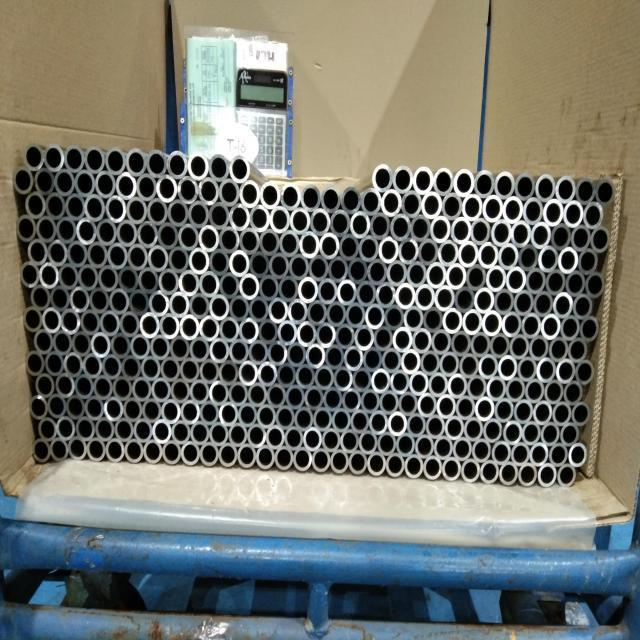pipe: (470, 217, 493, 247), (166, 150, 188, 181), (24, 190, 46, 220), (167, 198, 189, 228), (116, 218, 138, 248), (12, 166, 34, 196), (433, 167, 455, 197), (494, 171, 516, 201), (177, 175, 199, 205), (360, 187, 382, 217), (410, 214, 432, 243), (125, 148, 147, 177), (442, 191, 463, 221), (45, 191, 66, 221), (462, 192, 483, 222), (85, 193, 106, 223), (106, 194, 127, 224), (502, 195, 523, 225), (523, 196, 544, 226), (147, 197, 168, 227), (543, 198, 564, 228), (563, 199, 584, 229), (209, 201, 230, 231), (229, 202, 250, 232), (249, 203, 270, 233), (270, 205, 291, 235), (290, 206, 311, 236), (330, 208, 351, 238), (350, 210, 371, 240), (390, 212, 411, 242), (430, 214, 451, 244), (137, 219, 158, 249), (531, 220, 552, 250), (127, 242, 148, 272), (105, 146, 126, 176), (146, 149, 167, 179), (188, 151, 209, 181), (209, 152, 230, 182), (372, 163, 393, 193), (34, 167, 55, 197), (54, 167, 75, 197), (74, 168, 95, 198), (474, 169, 495, 199), (95, 169, 116, 199), (116, 171, 137, 201), (514, 172, 535, 202), (136, 172, 157, 202), (157, 173, 178, 203), (535, 173, 556, 203), (198, 176, 219, 206), (219, 178, 240, 208), (596, 178, 617, 208), (240, 179, 261, 209), (340, 185, 361, 215), (381, 188, 402, 218), (401, 189, 422, 219), (583, 200, 603, 231), (230, 153, 250, 184), (126, 196, 147, 225), (188, 200, 209, 229), (310, 207, 331, 236), (369, 211, 390, 240), (36, 215, 57, 244), (56, 216, 77, 245), (96, 218, 117, 247), (491, 218, 512, 247), (158, 221, 179, 250), (551, 222, 572, 251), (178, 223, 199, 252), (570, 224, 591, 253), (198, 224, 219, 253), (219, 225, 240, 254), (239, 227, 260, 256), (259, 228, 280, 257), (279, 229, 300, 258), (358, 234, 379, 263), (378, 235, 399, 264), (398, 237, 419, 266), (27, 238, 48, 267), (438, 239, 459, 268), (67, 239, 88, 268), (87, 240, 108, 269), (107, 242, 128, 271), (498, 242, 519, 271), (518, 243, 539, 272), (148, 244, 169, 273), (538, 245, 559, 274), (168, 245, 189, 274), (558, 246, 579, 275), (189, 246, 210, 275), (209, 248, 230, 277), (229, 249, 250, 278), (288, 253, 309, 282), (347, 257, 368, 286), (386, 259, 407, 288), (446, 262, 467, 291), (78, 263, 99, 292), (98, 264, 119, 293), (118, 265, 139, 294), (454, 285, 475, 314), (494, 287, 515, 316), (84, 146, 105, 175), (392, 165, 413, 194), (412, 166, 433, 195), (575, 177, 596, 206), (260, 181, 281, 210), (300, 183, 321, 212), (422, 191, 443, 220), (65, 192, 85, 222), (451, 216, 471, 246), (578, 247, 598, 277), (454, 168, 474, 198), (482, 195, 503, 223), (249, 251, 270, 279), (406, 260, 427, 288), (426, 261, 447, 289), (505, 266, 526, 294), (138, 267, 159, 295), (158, 268, 179, 296), (545, 268, 566, 296), (239, 273, 260, 301), (258, 274, 279, 302), (298, 276, 319, 304), (395, 282, 416, 310), (69, 285, 90, 313), (89, 287, 110, 315), (474, 287, 495, 315), (128, 289, 149, 317), (148, 290, 169, 318), (80, 308, 101, 336), (99, 309, 120, 337), (119, 310, 140, 338), (521, 312, 542, 340), (200, 314, 221, 342), (509, 333, 530, 361), (65, 393, 86, 421), (43, 144, 64, 172), (17, 214, 37, 243), (511, 220, 531, 249), (300, 230, 320, 259), (339, 233, 359, 262), (418, 238, 438, 267), (48, 238, 68, 267), (478, 241, 498, 270), (269, 251, 289, 280), (367, 258, 387, 287), (466, 263, 486, 292), (486, 264, 506, 293), (565, 269, 585, 298), (199, 270, 219, 299), (219, 271, 239, 300), (31, 283, 51, 312), (50, 284, 70, 313), (229, 294, 249, 323), (24, 143, 44, 172), (555, 175, 575, 204), (280, 182, 300, 211), (321, 185, 341, 214), (458, 240, 479, 267), (287, 298, 308, 325), (384, 304, 405, 331), (139, 312, 160, 339), (540, 313, 561, 340), (189, 336, 210, 363), (76, 217, 96, 245), (309, 254, 329, 282), (328, 256, 348, 284), (39, 261, 59, 289), (59, 262, 79, 290), (526, 267, 546, 295), (179, 269, 199, 297), (585, 271, 605, 299), (278, 275, 298, 303), (318, 277, 338, 305), (337, 279, 357, 307), (376, 281, 396, 309), (435, 285, 455, 313), (109, 288, 129, 316), (514, 289, 534, 317), (534, 290, 554, 318), (169, 291, 189, 319), (553, 291, 573, 319), (189, 292, 209, 320), (573, 293, 593, 321), (249, 296, 269, 324), (307, 299, 327, 327), (326, 300, 346, 328), (346, 301, 366, 329), (423, 306, 443, 334), (442, 307, 462, 335), (482, 310, 502, 338), (502, 311, 522, 339), (560, 314, 580, 342), (579, 315, 599, 343), (277, 319, 297, 347), (297, 320, 317, 348), (393, 326, 413, 354), (412, 327, 432, 355), (490, 332, 510, 360), (111, 332, 131, 360), (529, 334, 549, 362), (344, 344, 364, 372), (35, 372, 55, 400), (64, 145, 84, 173), (91, 332, 112, 358), (320, 232, 340, 259), (20, 262, 40, 289), (357, 280, 377, 307), (415, 284, 435, 311), (209, 294, 229, 321), (268, 297, 288, 324), (365, 303, 385, 330), (404, 305, 424, 332), (462, 309, 482, 336), (160, 313, 180, 340), (179, 314, 199, 341), (219, 316, 239, 343), (239, 317, 259, 344), (258, 318, 278, 345), (316, 322, 336, 349), (354, 324, 374, 351), (374, 325, 394, 352), (431, 328, 451, 355), (451, 330, 471, 357), (72, 330, 92, 357), (471, 331, 491, 358), (130, 333, 150, 360), (170, 335, 190, 362), (549, 336, 569, 363), (209, 337, 229, 364), (229, 338, 249, 365), (248, 339, 268, 366), (287, 341, 307, 368), (325, 343, 345, 370), (362, 346, 382, 373), (382, 347, 402, 374), (401, 349, 421, 376), (420, 349, 440, 376), (63, 351, 83, 378), (102, 353, 122, 380), (498, 354, 518, 381), (141, 355, 161, 382), (160, 355, 180, 382), (180, 357, 200, 384), (238, 360, 258, 387), (257, 361, 277, 388), (276, 362, 296, 389), (295, 363, 315, 390), (314, 364, 334, 391), (74, 373, 94, 400), (112, 375, 132, 402), (248, 381, 268, 408), (285, 384, 305, 411), (56, 415, 76, 442), (591, 225, 610, 253), (24, 306, 43, 334), (61, 307, 80, 335), (53, 329, 72, 357), (151, 335, 171, 361), (568, 337, 588, 363), (25, 351, 45, 377), (121, 355, 141, 381), (517, 357, 537, 383), (536, 357, 556, 383), (556, 358, 576, 384), (200, 359, 220, 385), (219, 359, 239, 385), (575, 360, 595, 386), (352, 367, 372, 393), (55, 373, 75, 399), (151, 377, 171, 403), (170, 378, 190, 404), (190, 379, 210, 405), (398, 391, 418, 417), (417, 392, 437, 418), (436, 394, 456, 420), (455, 395, 475, 421), (475, 396, 495, 422), (104, 396, 124, 422), (123, 397, 143, 423), (494, 397, 514, 423), (161, 398, 181, 424), (513, 399, 533, 425), (533, 400, 553, 426), (199, 400, 219, 426), (571, 401, 591, 427), (552, 401, 572, 427), (313, 407, 333, 433), (350, 408, 370, 434), (369, 410, 389, 436), (387, 411, 407, 437), (406, 413, 426, 439), (425, 414, 445, 440), (445, 415, 465, 441), (75, 416, 95, 442), (463, 416, 483, 442), (114, 417, 134, 443), (482, 418, 502, 444), (503, 420, 523, 446), (521, 420, 541, 446), (190, 420, 210, 446), (540, 421, 560, 447), (209, 421, 229, 447), (560, 422, 580, 448), (322, 428, 342, 454), (358, 430, 378, 456), (377, 431, 397, 457), (396, 433, 416, 459), (415, 433, 435, 459), (434, 435, 454, 461), (452, 436, 472, 462), (471, 438, 491, 464), (492, 441, 512, 467), (200, 441, 220, 467), (510, 442, 530, 468), (529, 442, 549, 468), (568, 442, 588, 468), (218, 442, 238, 468), (548, 442, 568, 468), (237, 443, 257, 469), (255, 445, 275, 471), (274, 445, 294, 471), (293, 447, 313, 473), (311, 448, 331, 474), (330, 449, 350, 475), (348, 450, 368, 476), (367, 451, 387, 477), (385, 452, 405, 478), (404, 453, 424, 479), (422, 455, 442, 481), (441, 457, 461, 483), (461, 458, 481, 484), (480, 459, 500, 485), (499, 462, 519, 488), (518, 462, 538, 488), (537, 462, 557, 488), (557, 463, 577, 489), (42, 307, 61, 334), (336, 323, 355, 350), (34, 328, 53, 355), (45, 350, 64, 377), (479, 353, 498, 380), (371, 367, 390, 394), (94, 374, 113, 401), (267, 383, 286, 410), (47, 393, 66, 420), (85, 394, 104, 421), (332, 407, 351, 434), (38, 415, 57, 442), (171, 419, 190, 446), (142, 398, 162, 423), (238, 403, 258, 428), (228, 422, 248, 447), (265, 425, 285, 450), (303, 427, 323, 452), (161, 440, 181, 465), (268, 341, 287, 367), (306, 343, 325, 369), (83, 353, 102, 379), (334, 366, 353, 392), (132, 376, 151, 402), (209, 381, 228, 407), (323, 386, 342, 412), (342, 387, 361, 413), (361, 389, 380, 415), (380, 390, 399, 416), (181, 399, 200, 425), (95, 416, 114, 442), (153, 418, 172, 444), (340, 428, 359, 454), (105, 437, 124, 463), (125, 438, 144, 464), (143, 439, 162, 465), (143, 439, 162, 465), (440, 352, 459, 377), (459, 353, 478, 378), (391, 370, 410, 395), (410, 371, 429, 396), (429, 373, 448, 398), (448, 374, 467, 399), (468, 376, 487, 401), (487, 377, 506, 402), (507, 378, 526, 403), (526, 379, 545, 404), (545, 380, 564, 405), (564, 381, 583, 406), (229, 382, 248, 407), (305, 386, 324, 411), (29, 395, 48, 420), (219, 402, 238, 427), (257, 404, 276, 429), (275, 405, 294, 430), (295, 407, 314, 432), (134, 418, 153, 443), (247, 423, 266, 448), (285, 426, 304, 451), (68, 437, 87, 462), (87, 437, 106, 462), (49, 437, 68, 462), (181, 441, 200, 466), (33, 438, 51, 464)
